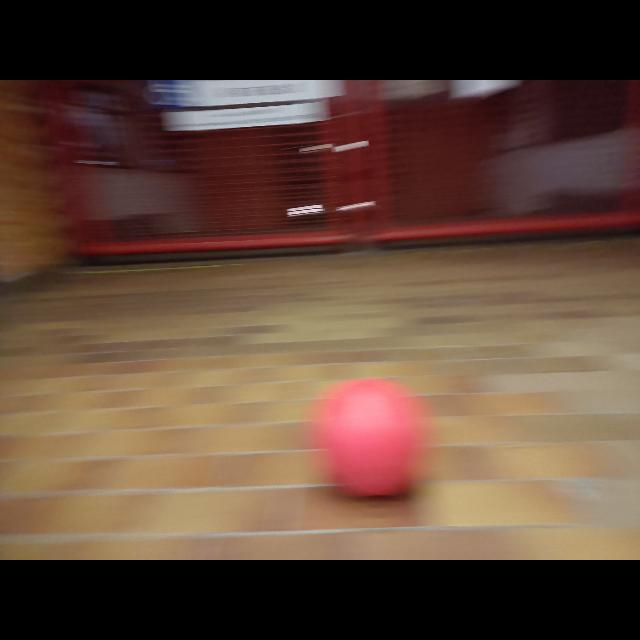R: (311, 374, 435, 501)
